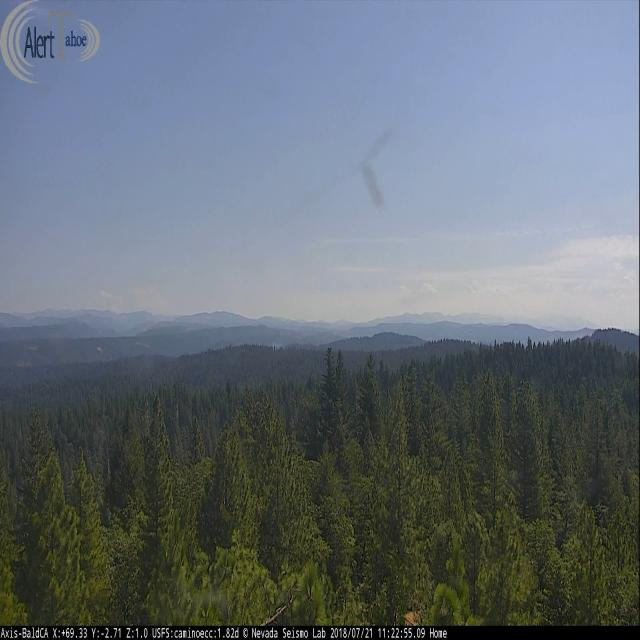smoke: (271, 338, 282, 347)
